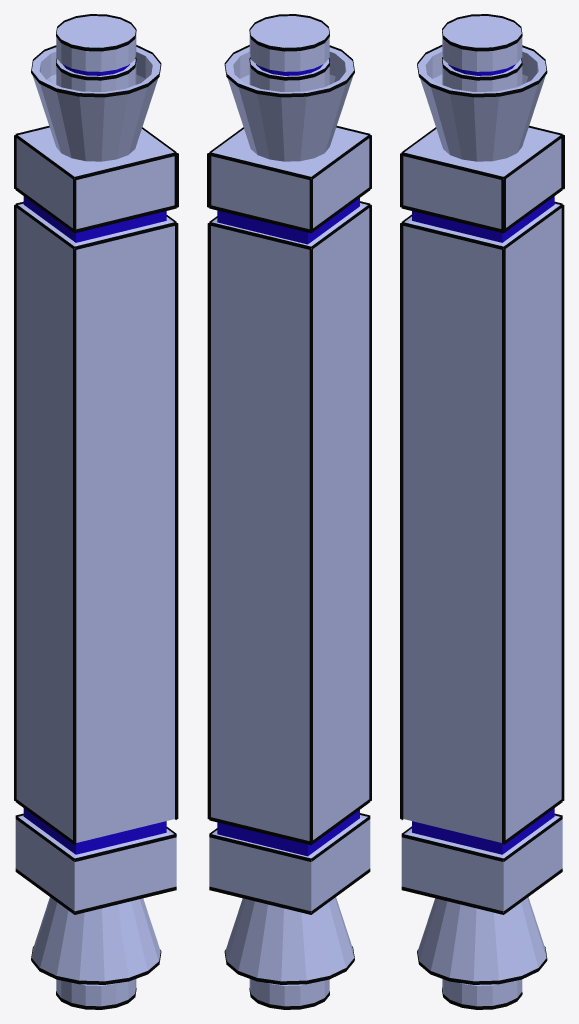
File: player1.glb
3 views of the same model, side by side, from view 1: azimuth 30°, elevation 25°; view 2: azimuth 150°, elevation 25°; view 3: azimuth 330°, elevation 25° (orthographic).
Visible parts, largest first — view 1: Cube, Cube.012, Cube.004, Cube.007, Cube.006, Cube.005, Cube.002, Cube.009, Cube.003; view 2: Cube, Cube.007, Cube.004, Cube.012, Cube.006, Cube.005, Cube.002, Cube.008, Cube.009; view 3: Cube, Cube.012, Cube.007, Cube.004, Cube.006, Cube.005, Cube.001, Cube.009, Cube.010, Cube.003.
Boxes of the visible parts, x1=… form: Cube: x1=15, y1=16, x2=176, y2=1006; Cube.012: x1=73, y1=223, x2=178, y2=844; Cube.004: x1=16, y1=126, x2=176, y2=914; Cube.007: x1=14, y1=204, x2=16, y2=800; Cube.006: x1=31, y1=45, x2=161, y2=984; Cube.005: x1=56, y1=14, x2=136, y2=1009; Cube.002: x1=15, y1=134, x2=74, y2=914; Cube.009: x1=15, y1=204, x2=176, y2=844; Cube.003: x1=74, y1=222, x2=176, y2=249; Cube: x1=209, y1=16, x2=370, y2=1006; Cube.007: x1=207, y1=223, x2=312, y2=844; Cube.004: x1=209, y1=126, x2=369, y2=914; Cube.012: x1=369, y1=204, x2=371, y2=800; Cube.006: x1=224, y1=45, x2=354, y2=984; Cube.005: x1=249, y1=14, x2=329, y2=1009; Cube.002: x1=311, y1=134, x2=370, y2=914; Cube.008: x1=209, y1=222, x2=311, y2=844; Cube.009: x1=209, y1=204, x2=370, y2=844; Cube: x1=401, y1=16, x2=562, y2=1006; Cube.012: x1=400, y1=223, x2=505, y2=844; Cube.007: x1=561, y1=204, x2=564, y2=800; Cube.004: x1=401, y1=125, x2=562, y2=914; Cube.006: x1=417, y1=45, x2=547, y2=984; Cube.005: x1=442, y1=14, x2=522, y2=1009; Cube.001: x1=503, y1=134, x2=562, y2=914; Cube.009: x1=401, y1=204, x2=562, y2=844; Cube.010: x1=501, y1=134, x2=564, y2=232; Cube.003: x1=401, y1=222, x2=503, y2=249.
Size of the model in its own units: 2.05 by 16.59 by 2.05.
